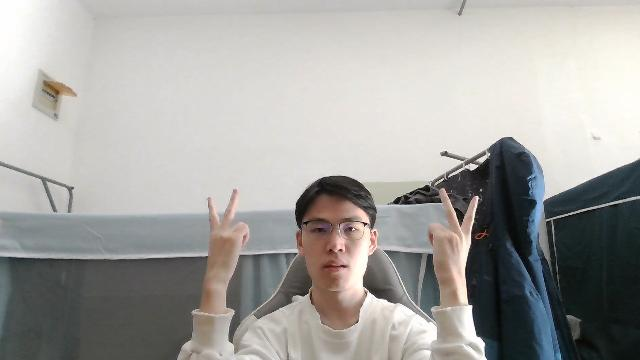two: (428, 189, 480, 282), (208, 188, 249, 278)
